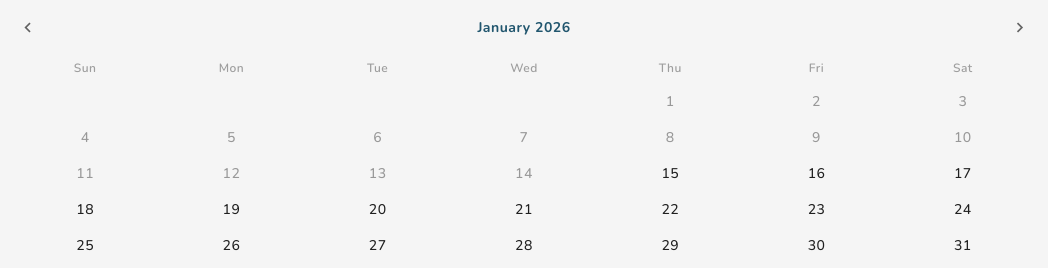
Test: MultiDatePicker › wraps year when navigating before January
The image size is (1048, 268).
Expected: the text "January 2026" is shown, 477,18 -> 571,38
Click the button named "Previous month" at (28, 28), box 12,12 -> 44,44
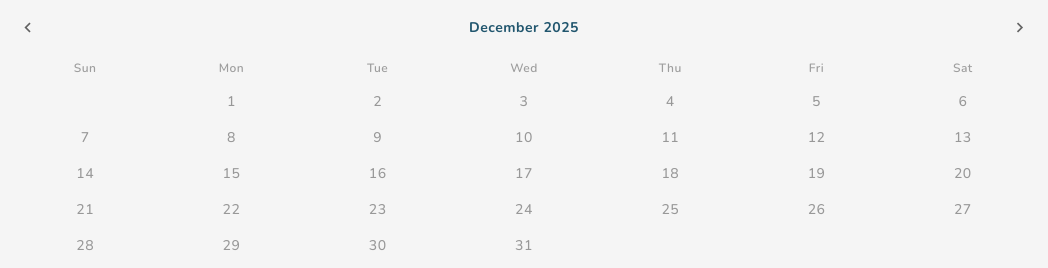
Expected: the text "December 2025" is shown, 469,18 -> 579,38
